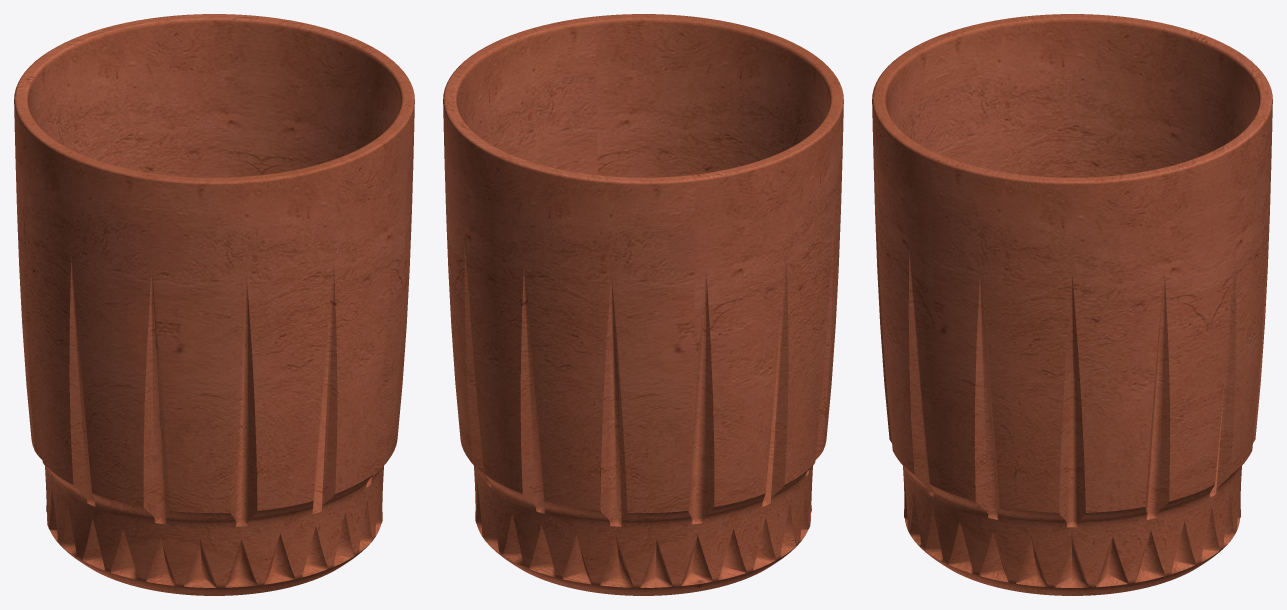
File: Bicchiere.fbx
The picture shows the model from 3 angles, left to right: view 1: azimuth 30°, elevation 25°; view 2: azimuth 150°, elevation 25°; view 3: azimuth 270°, elevation 25°; orthographic projection.
Visible parts, largest first — view 1: Bicchiere; view 2: Bicchiere; view 3: Bicchiere.
Part boxes in pixels (box(x1,y1,x2,y2)): Bicchiere: box(14, 14, 414, 595); Bicchiere: box(443, 14, 843, 595); Bicchiere: box(872, 14, 1272, 595).
Size of the model in its own units: 287 by 343 by 287.
